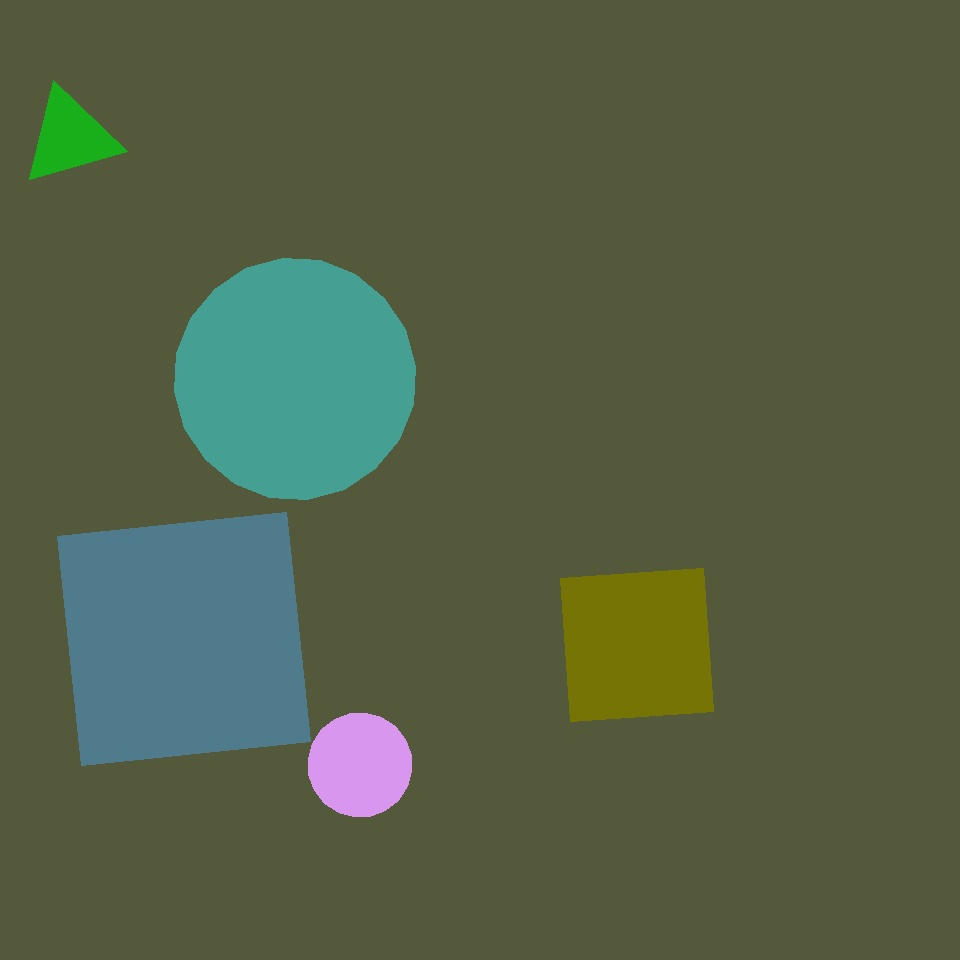circle: (39, 524, 299, 770), (21, 88, 119, 186)
square: (58, 513, 311, 766), (560, 568, 714, 722)
triangle: (370, 368, 633, 631), (175, 258, 416, 499), (686, 681, 853, 848), (308, 714, 412, 816)
